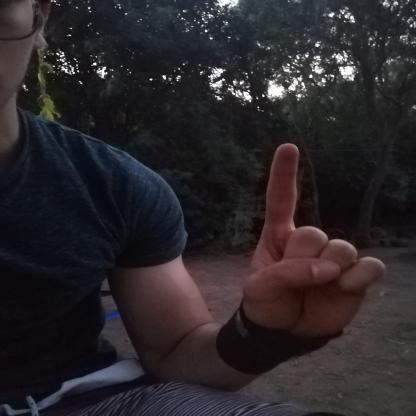BAA: (232, 130, 394, 348)
